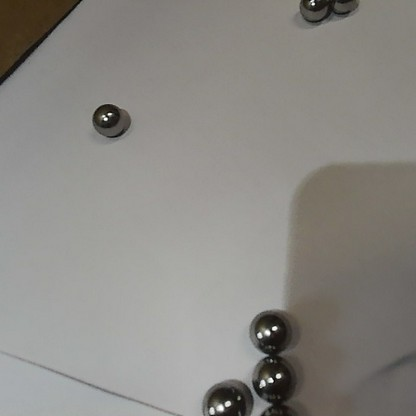ironball: (248, 352, 302, 402), (198, 376, 254, 416), (245, 310, 293, 353), (89, 100, 128, 137), (292, 0, 331, 25), (329, 0, 371, 15), (254, 404, 310, 414)
